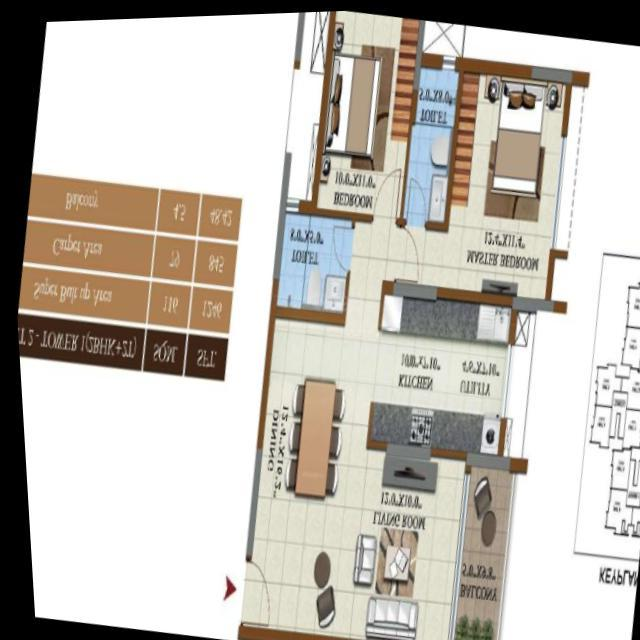Balcony-Sitout: (442, 449, 513, 640)
Bedroom: (307, 9, 425, 227)
Bedroom with Toilet: (388, 49, 573, 312)
Dining: (271, 359, 348, 512)
Enterance-Foyer: (230, 547, 275, 640)
Kitchen: (360, 287, 514, 462)
Living: (340, 436, 467, 640)
Toilet: (394, 49, 465, 232), (266, 203, 354, 324)
